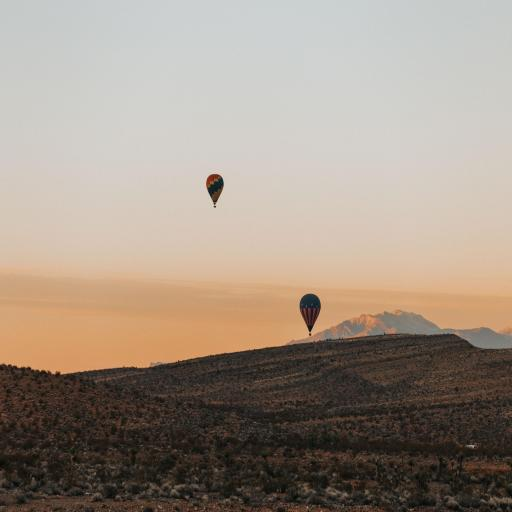hot air ballon: (298, 288, 320, 338), (205, 170, 224, 210)
